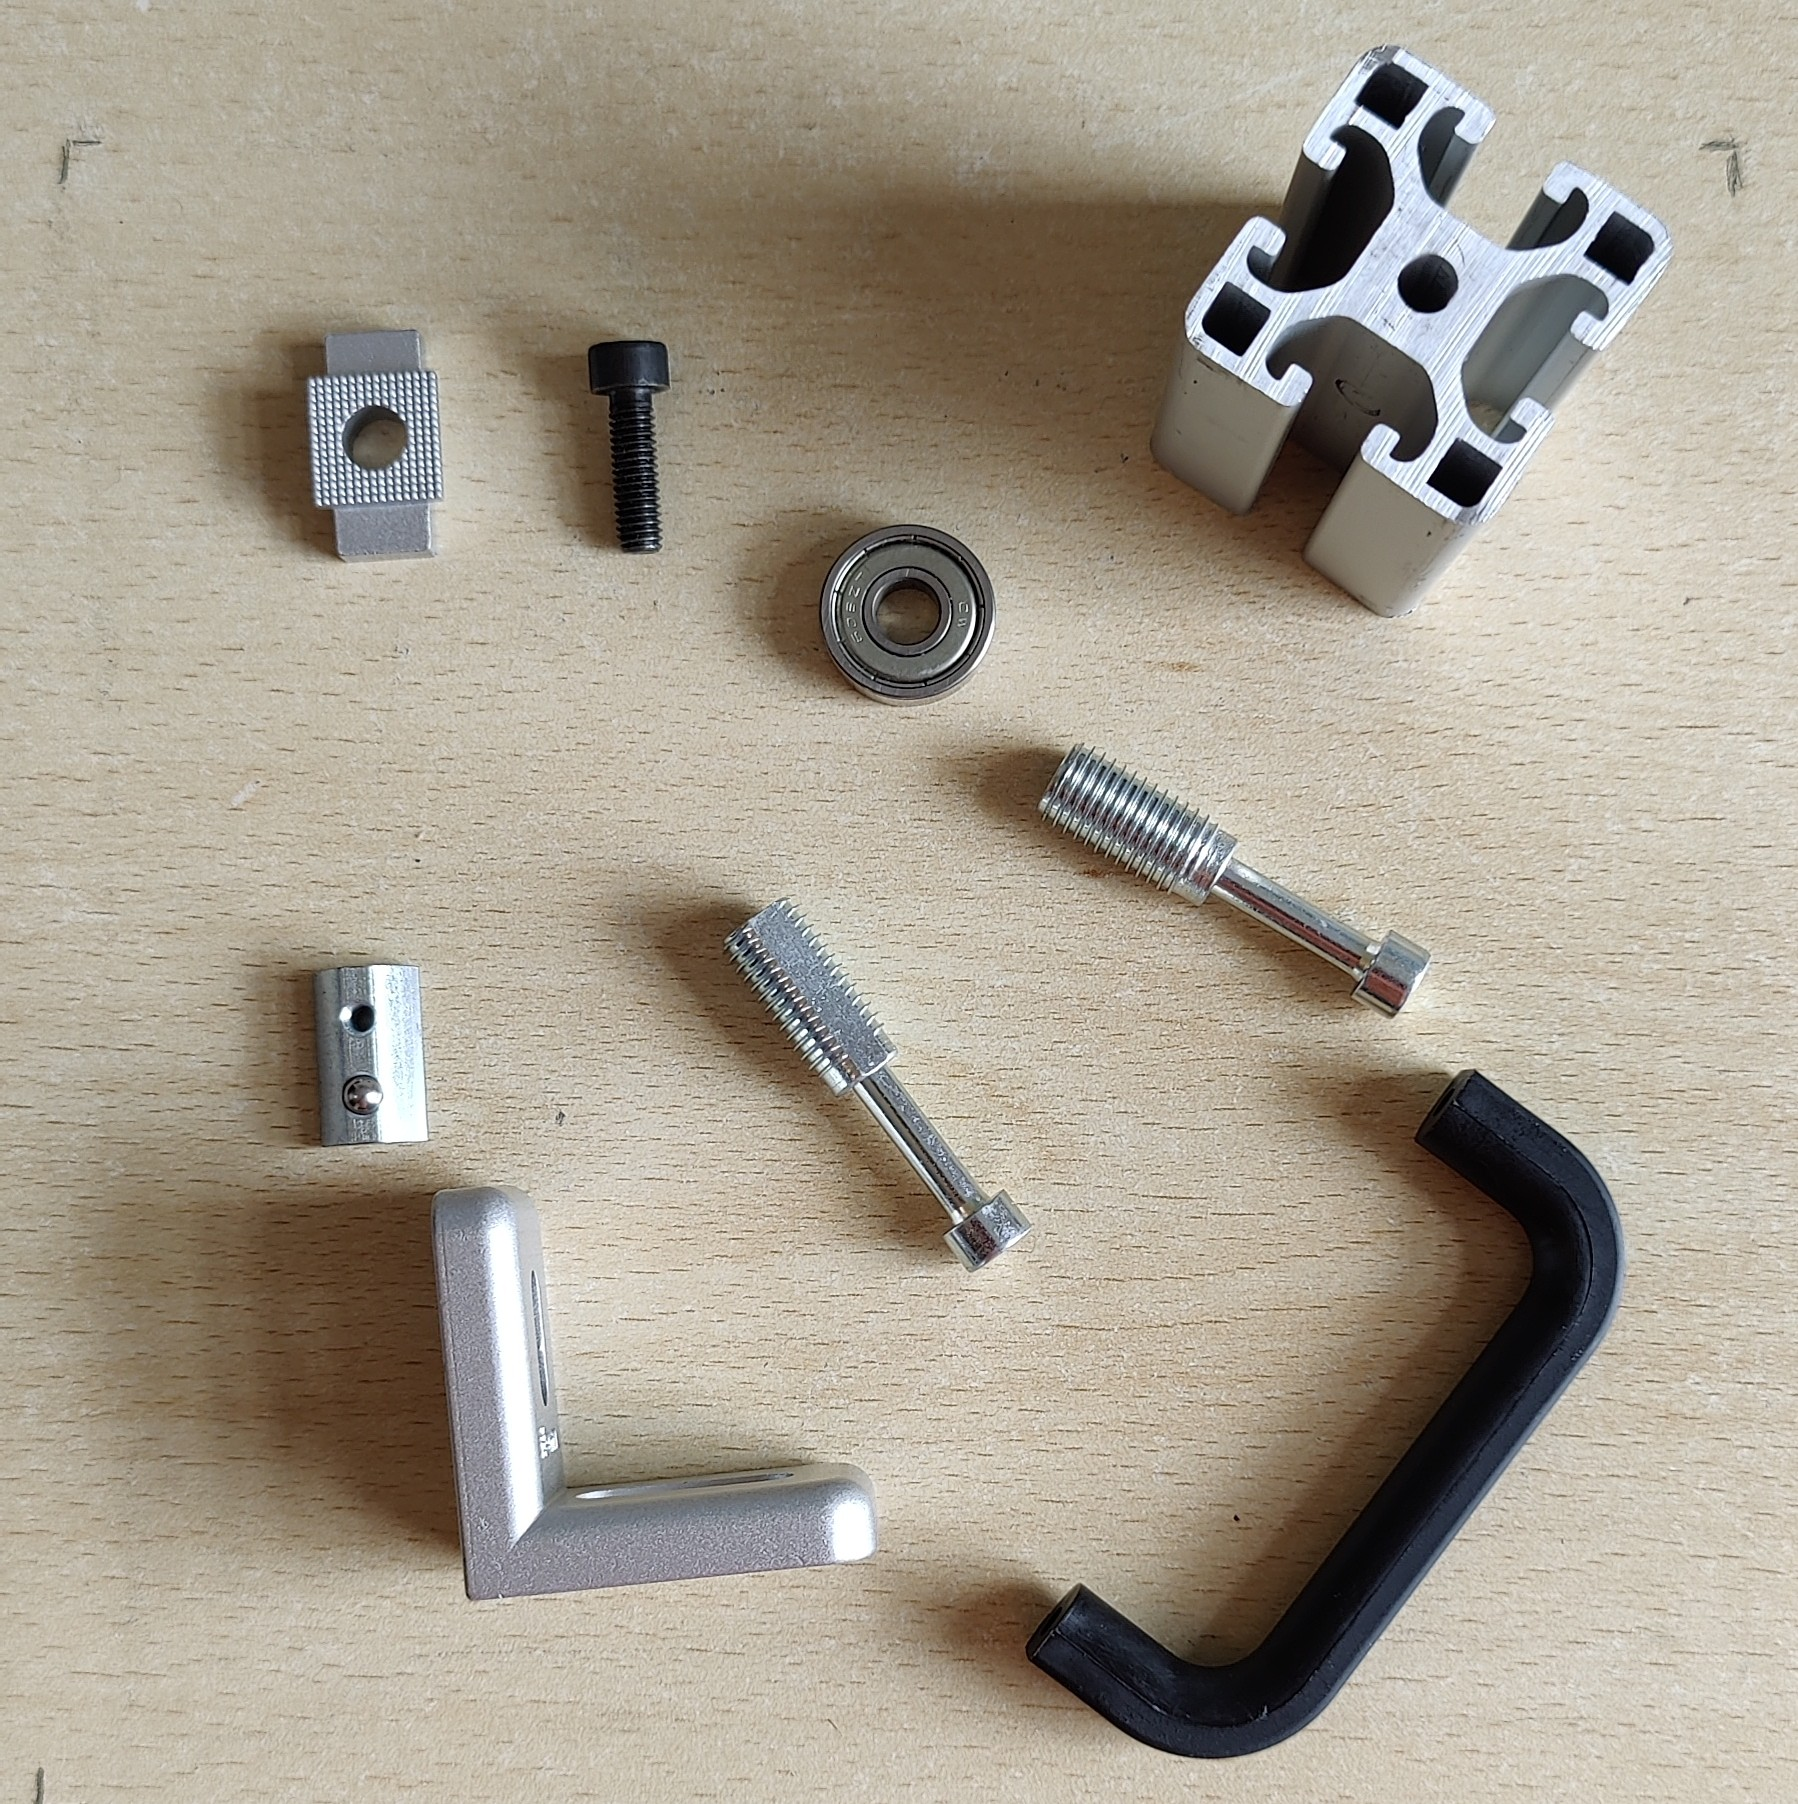Aluminium Extension: (1149, 44, 1671, 619)
Ball Bearing: (815, 522, 994, 709)
Multiwinkel: (430, 1183, 883, 1603)
Pull Handle: (1024, 1063, 1627, 1761)
Shoulder Socket Head Cap Screw: (723, 894, 1036, 1272), (1032, 741, 1432, 1022)
Socket Head Cap Screw: (585, 336, 673, 555)
T Nut Square: (306, 324, 446, 566)
T Spring Nut: (311, 963, 430, 1147)
